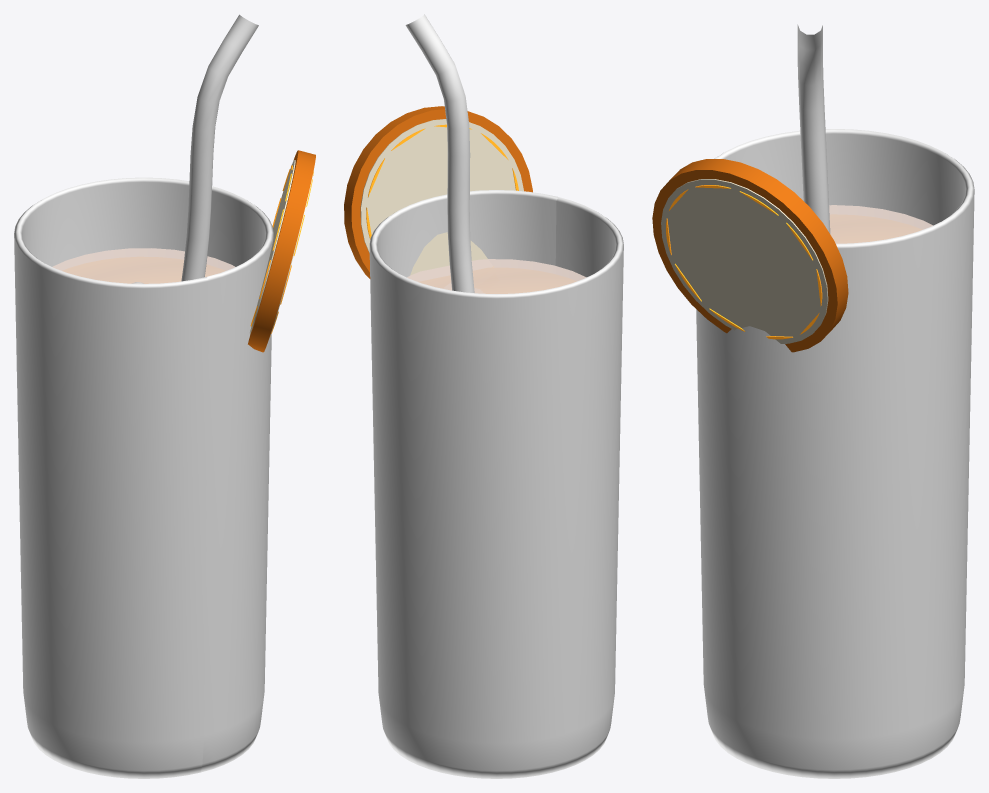
Rendered from cam.glb.
3 views of the same model, side by side, from view 1: azimuth 30°, elevation 25°; view 2: azimuth 150°, elevation 25°; view 3: azimuth 270°, elevation 25° (orthographic). The views are drawn at different scales.
Visible parts, largest first — view 1: glass, straw, garnish (×3), foam; view 2: glass, garnish (×3), straw, foam; view 3: glass, garnish (×3), straw, foam.
Boxes of the visible parts, x1,y1,x2,y2 form: glass: (14,177,273,778); straw: (181,14,258,281); garnish (×3): (248,150,315,352); foam: (52,248,234,283); glass: (369,190,623,778); garnish (×3): (344,106,532,278); straw: (405,14,474,292); foam: (407,259,586,293); glass: (696,129,974,778); garnish (×3): (652,159,848,352); straw: (797,24,830,233); foam: (829,205,932,243).
Size of the model in its own units: 0.0852 by 0.2117 by 0.0815.
